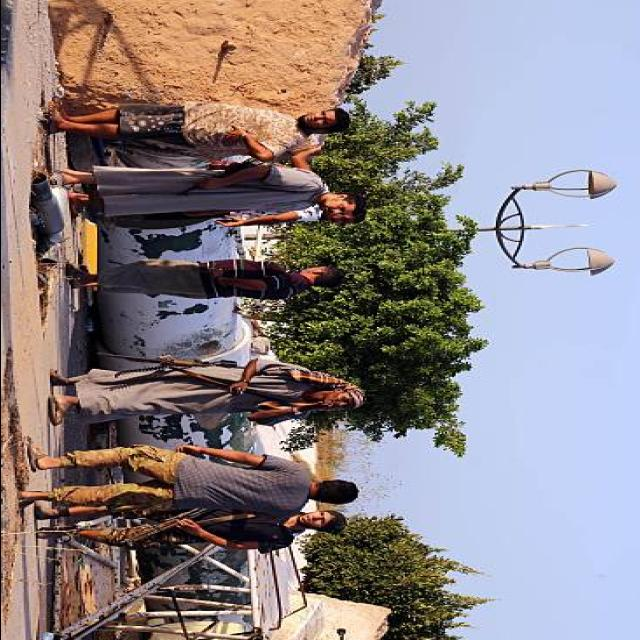civilian: (19, 441, 358, 517), (42, 101, 350, 162), (66, 258, 343, 299)
terrorist: (49, 349, 364, 426), (58, 162, 364, 215), (35, 505, 346, 552)
